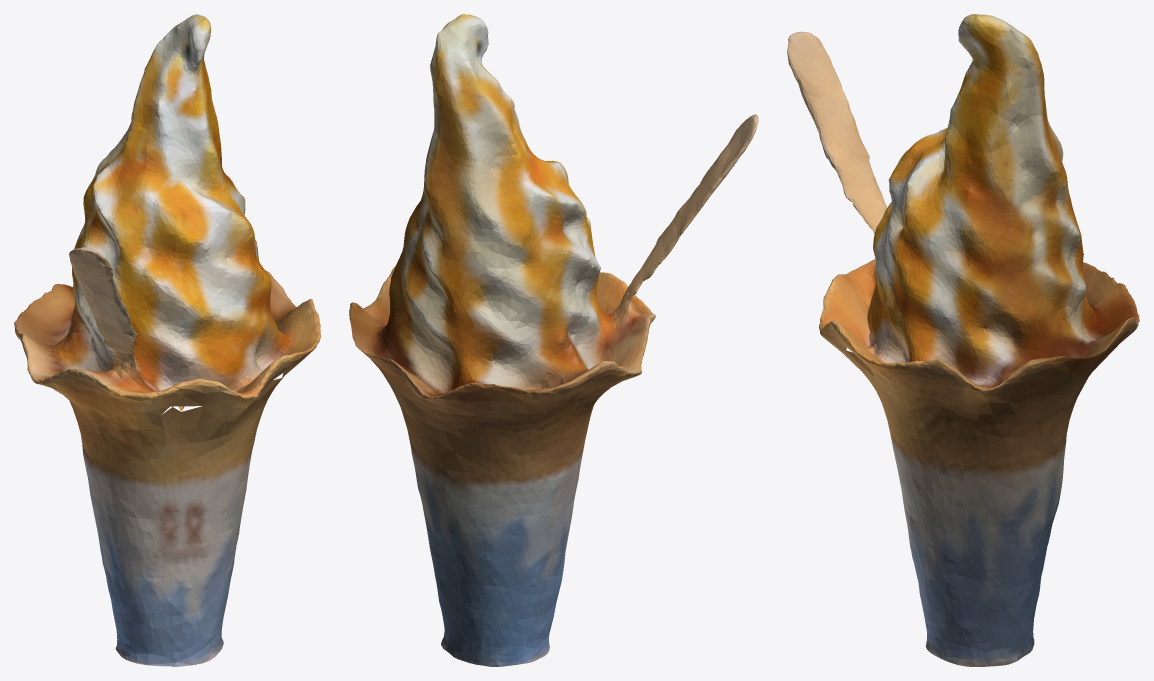
The model's file is icecream.glb.
The picture shows the model from 3 angles, left to right: view 1: azimuth 30°, elevation 25°; view 2: azimuth 150°, elevation 25°; view 3: azimuth 270°, elevation 25°; orthographic projection. The views are drawn at different scales.
Parts seen in each view (by area): view 1: mesh; view 2: mesh; view 3: mesh.
Boxes of the visible parts, left/top/right/bottom form: mesh: left=14, top=14, right=320, bottom=666; mesh: left=349, top=14, right=758, bottom=666; mesh: left=787, top=14, right=1139, bottom=666.
Bounding box in the file's own units: 0.0967 × 0.1859 × 0.0923.
Materials: 1 (1 with a texture image).
